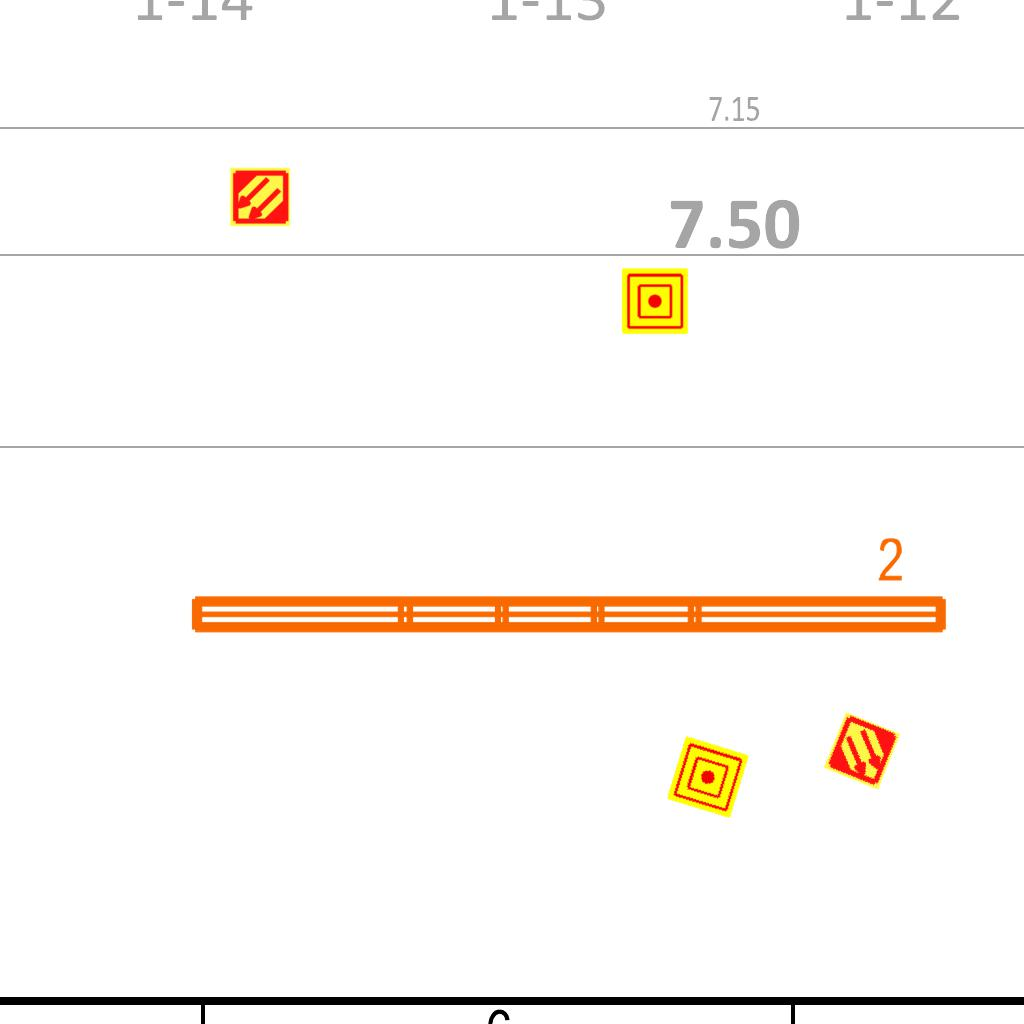ASR_Ansaugrauchmelder: (821, 710, 903, 792), (229, 166, 291, 228)
Ambulanz_Pendelleuchte_LED: (181, 533, 955, 645)
NAM-Nichtautomatischer_Melder: (666, 735, 750, 819), (622, 268, 688, 334)
